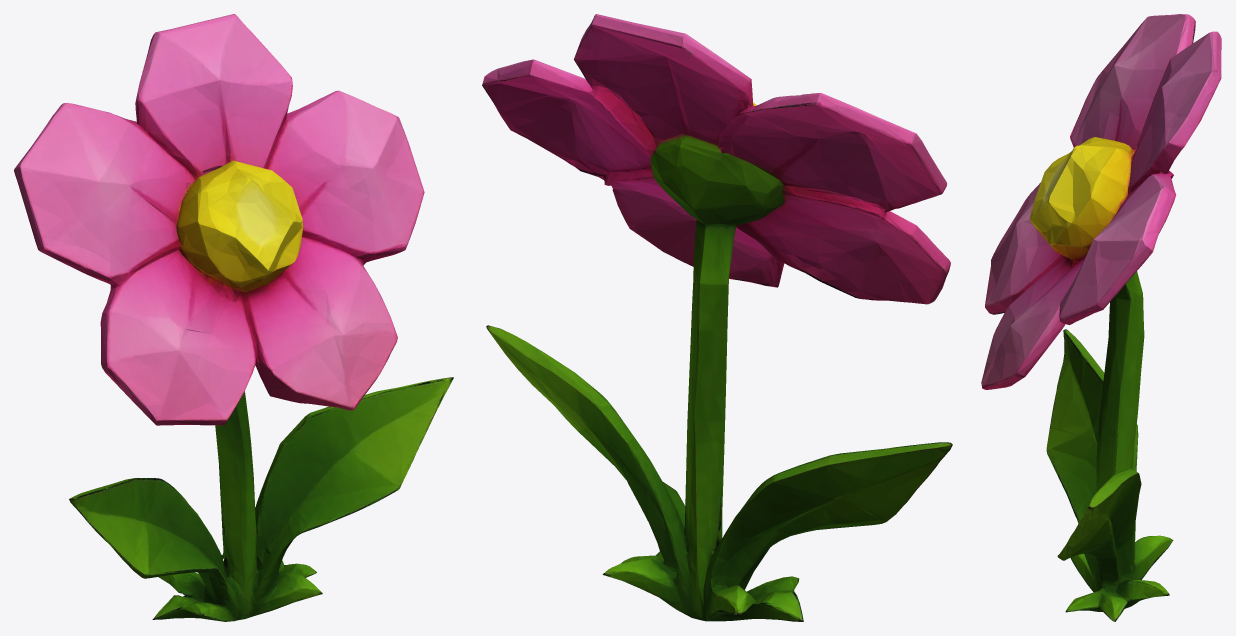
Rendered from flower.glb.
The picture shows the model from 3 angles, left to right: view 1: azimuth 30°, elevation 25°; view 2: azimuth 150°, elevation 25°; view 3: azimuth 270°, elevation 25°; orthographic projection. The views are drawn at different scales.
Visible parts, largest first — view 1: world; view 2: world; view 3: world.
Part boxes in pixels (bbox=[...]): world: bbox=[14, 14, 453, 621]; world: bbox=[482, 14, 952, 621]; world: bbox=[981, 14, 1221, 621].
Bounding box in the file's own units: 0.7693 × 0.9986 × 0.3887.
Materials: 1 (1 with a texture image).
